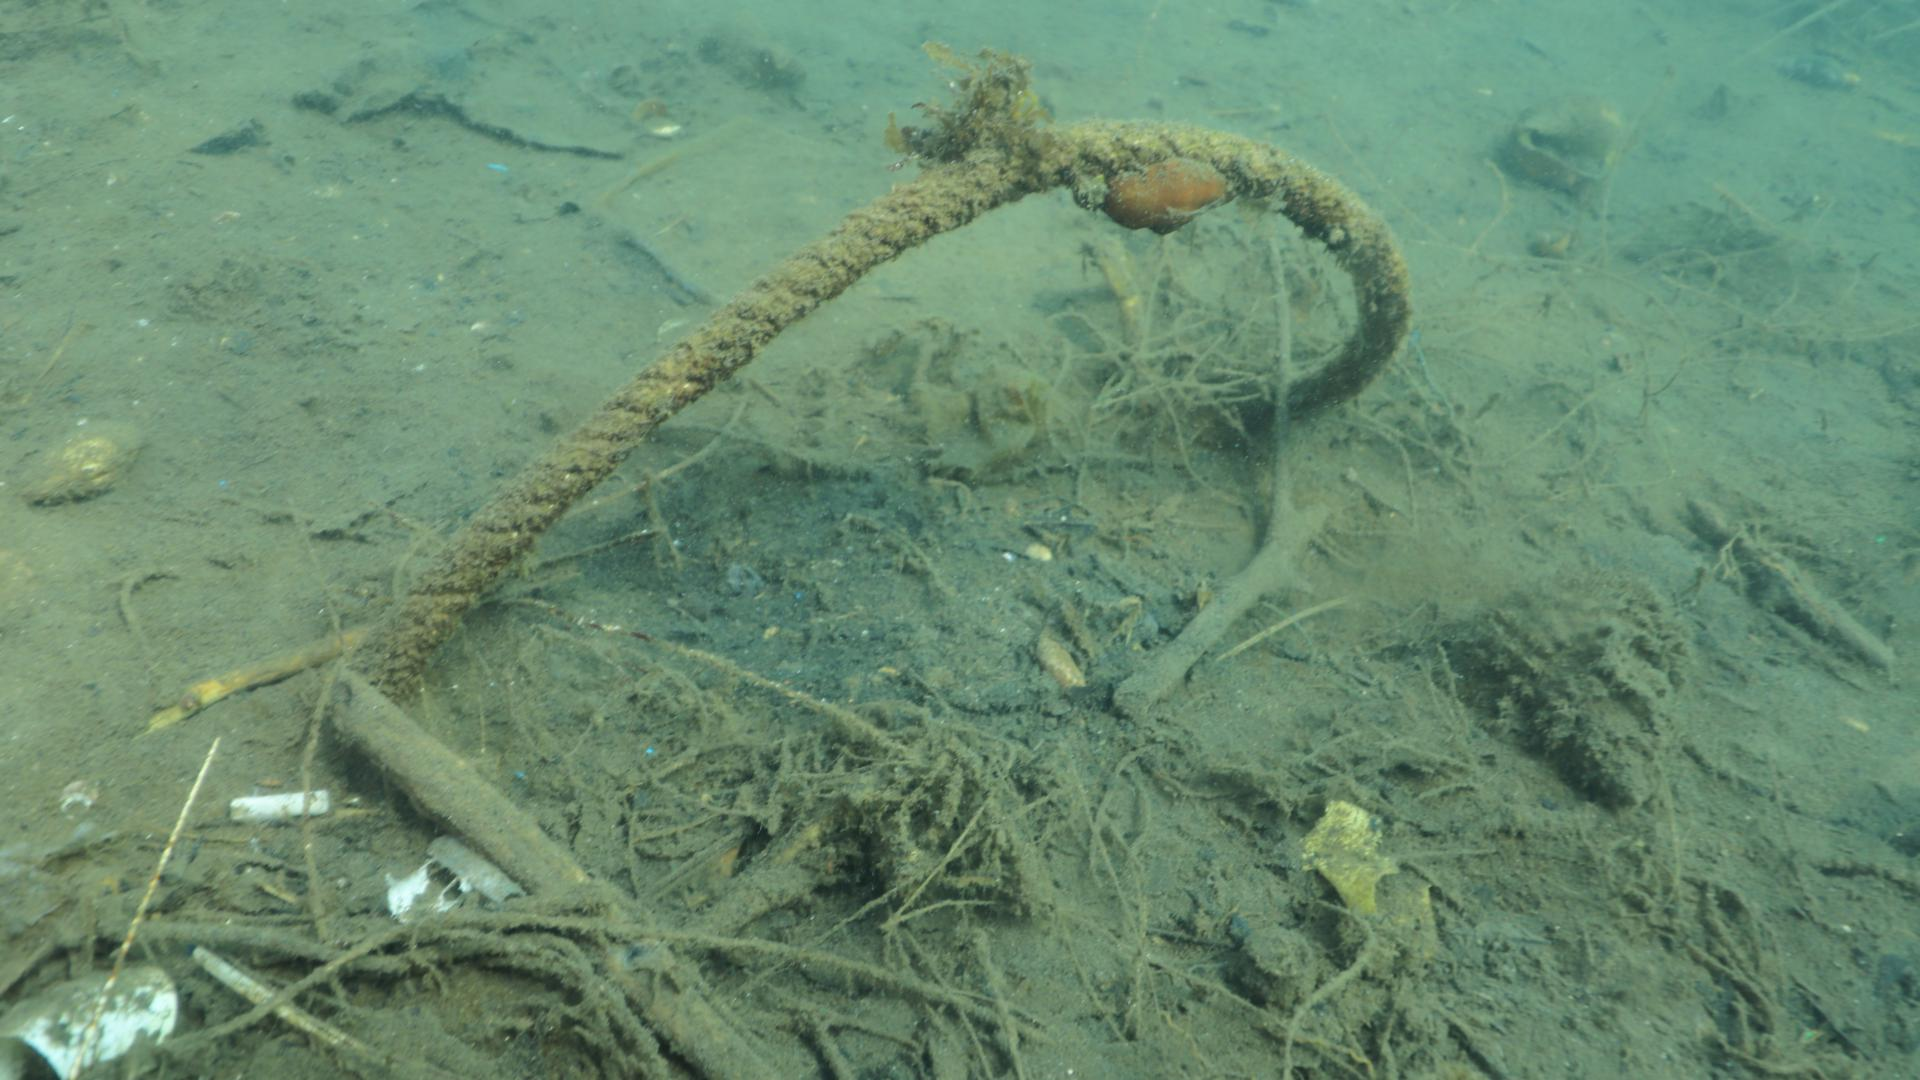rope: (342, 119, 1408, 705)
